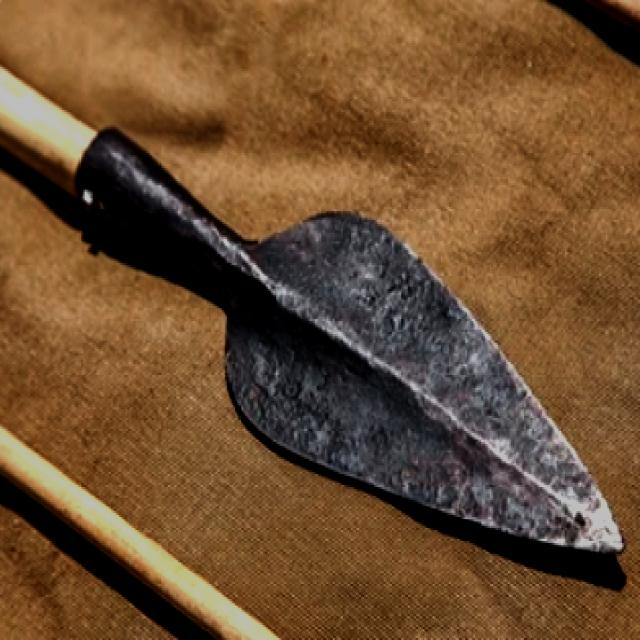spear: (1, 42, 632, 579)
